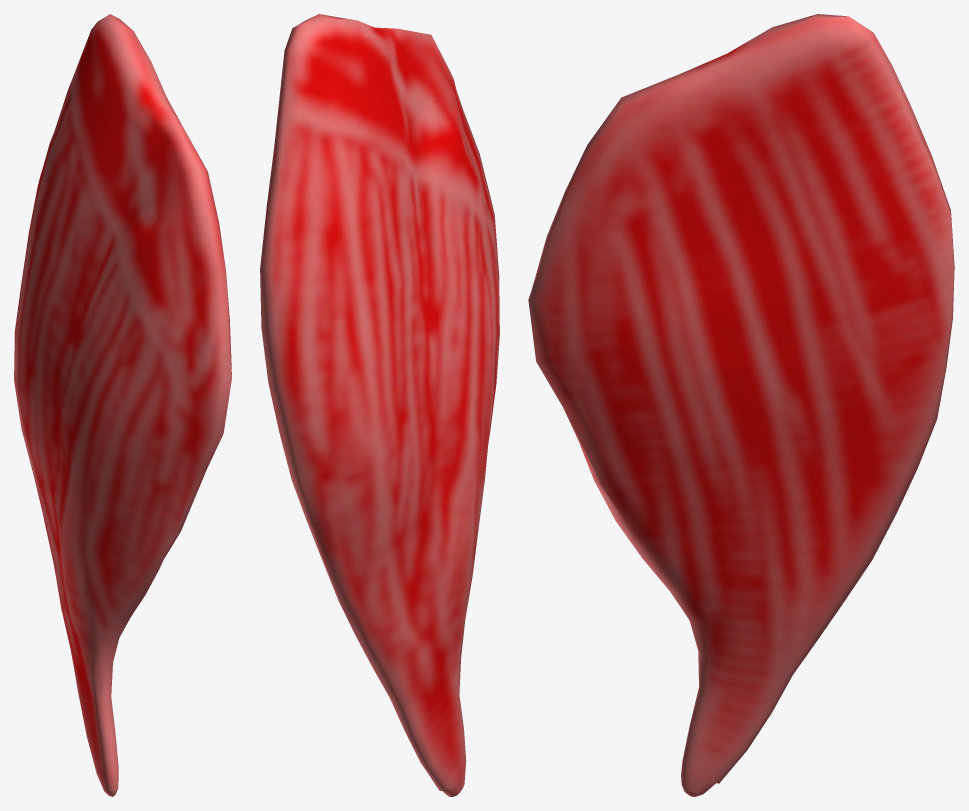
The model's file is Tricep_2.glb.
3 renders of one model, left to right at view 1: azimuth 30°, elevation 25°; view 2: azimuth 150°, elevation 25°; view 3: azimuth 270°, elevation 25°, orthographic. The views are drawn at different scales.
Visible parts, largest first — view 1: MuscleTricep_2R1.008; view 2: MuscleTricep_2R1.008; view 3: MuscleTricep_2R1.008.
Boxes of the visible parts, box(x1,y1,x2,y2) form: MuscleTricep_2R1.008: box(14, 14, 231, 796); MuscleTricep_2R1.008: box(260, 14, 499, 796); MuscleTricep_2R1.008: box(528, 14, 954, 796).
Bounding box in the file's own units: 0.0787 × 0.4974 × 0.2351.
1 material, 1 textured.
